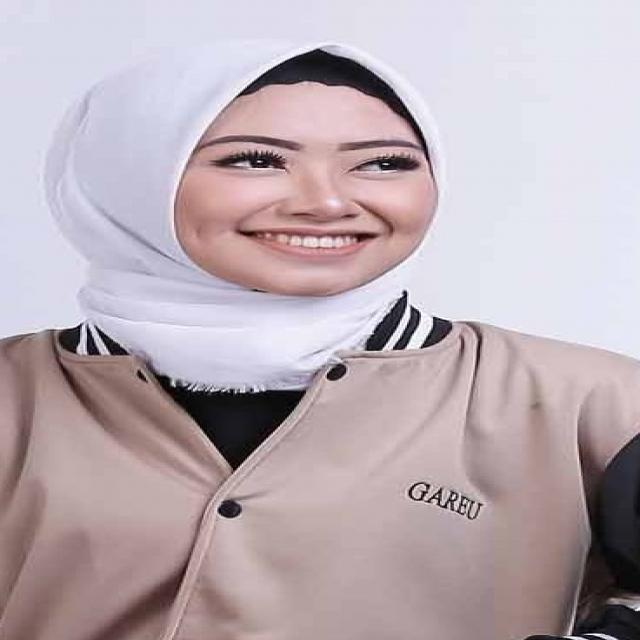head: (101, 31, 456, 302)
